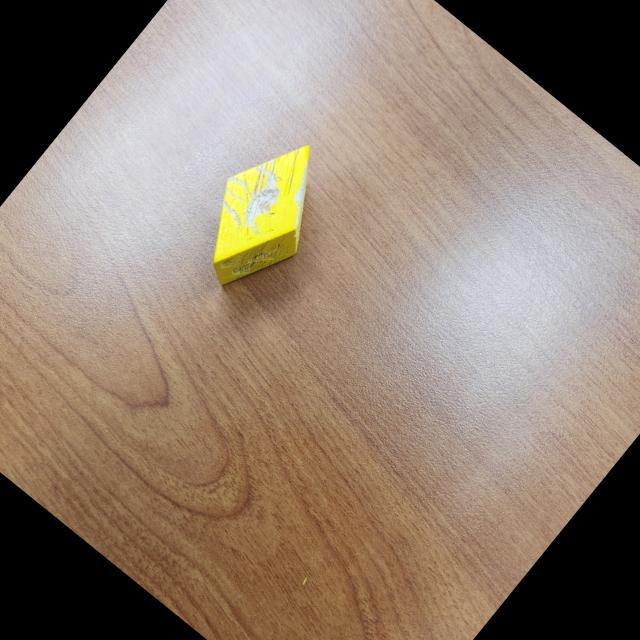broken: (172, 118, 354, 310)
